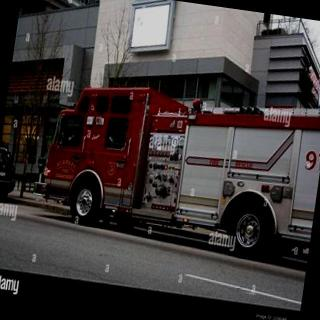Fire_truck: (33, 68, 320, 266)
